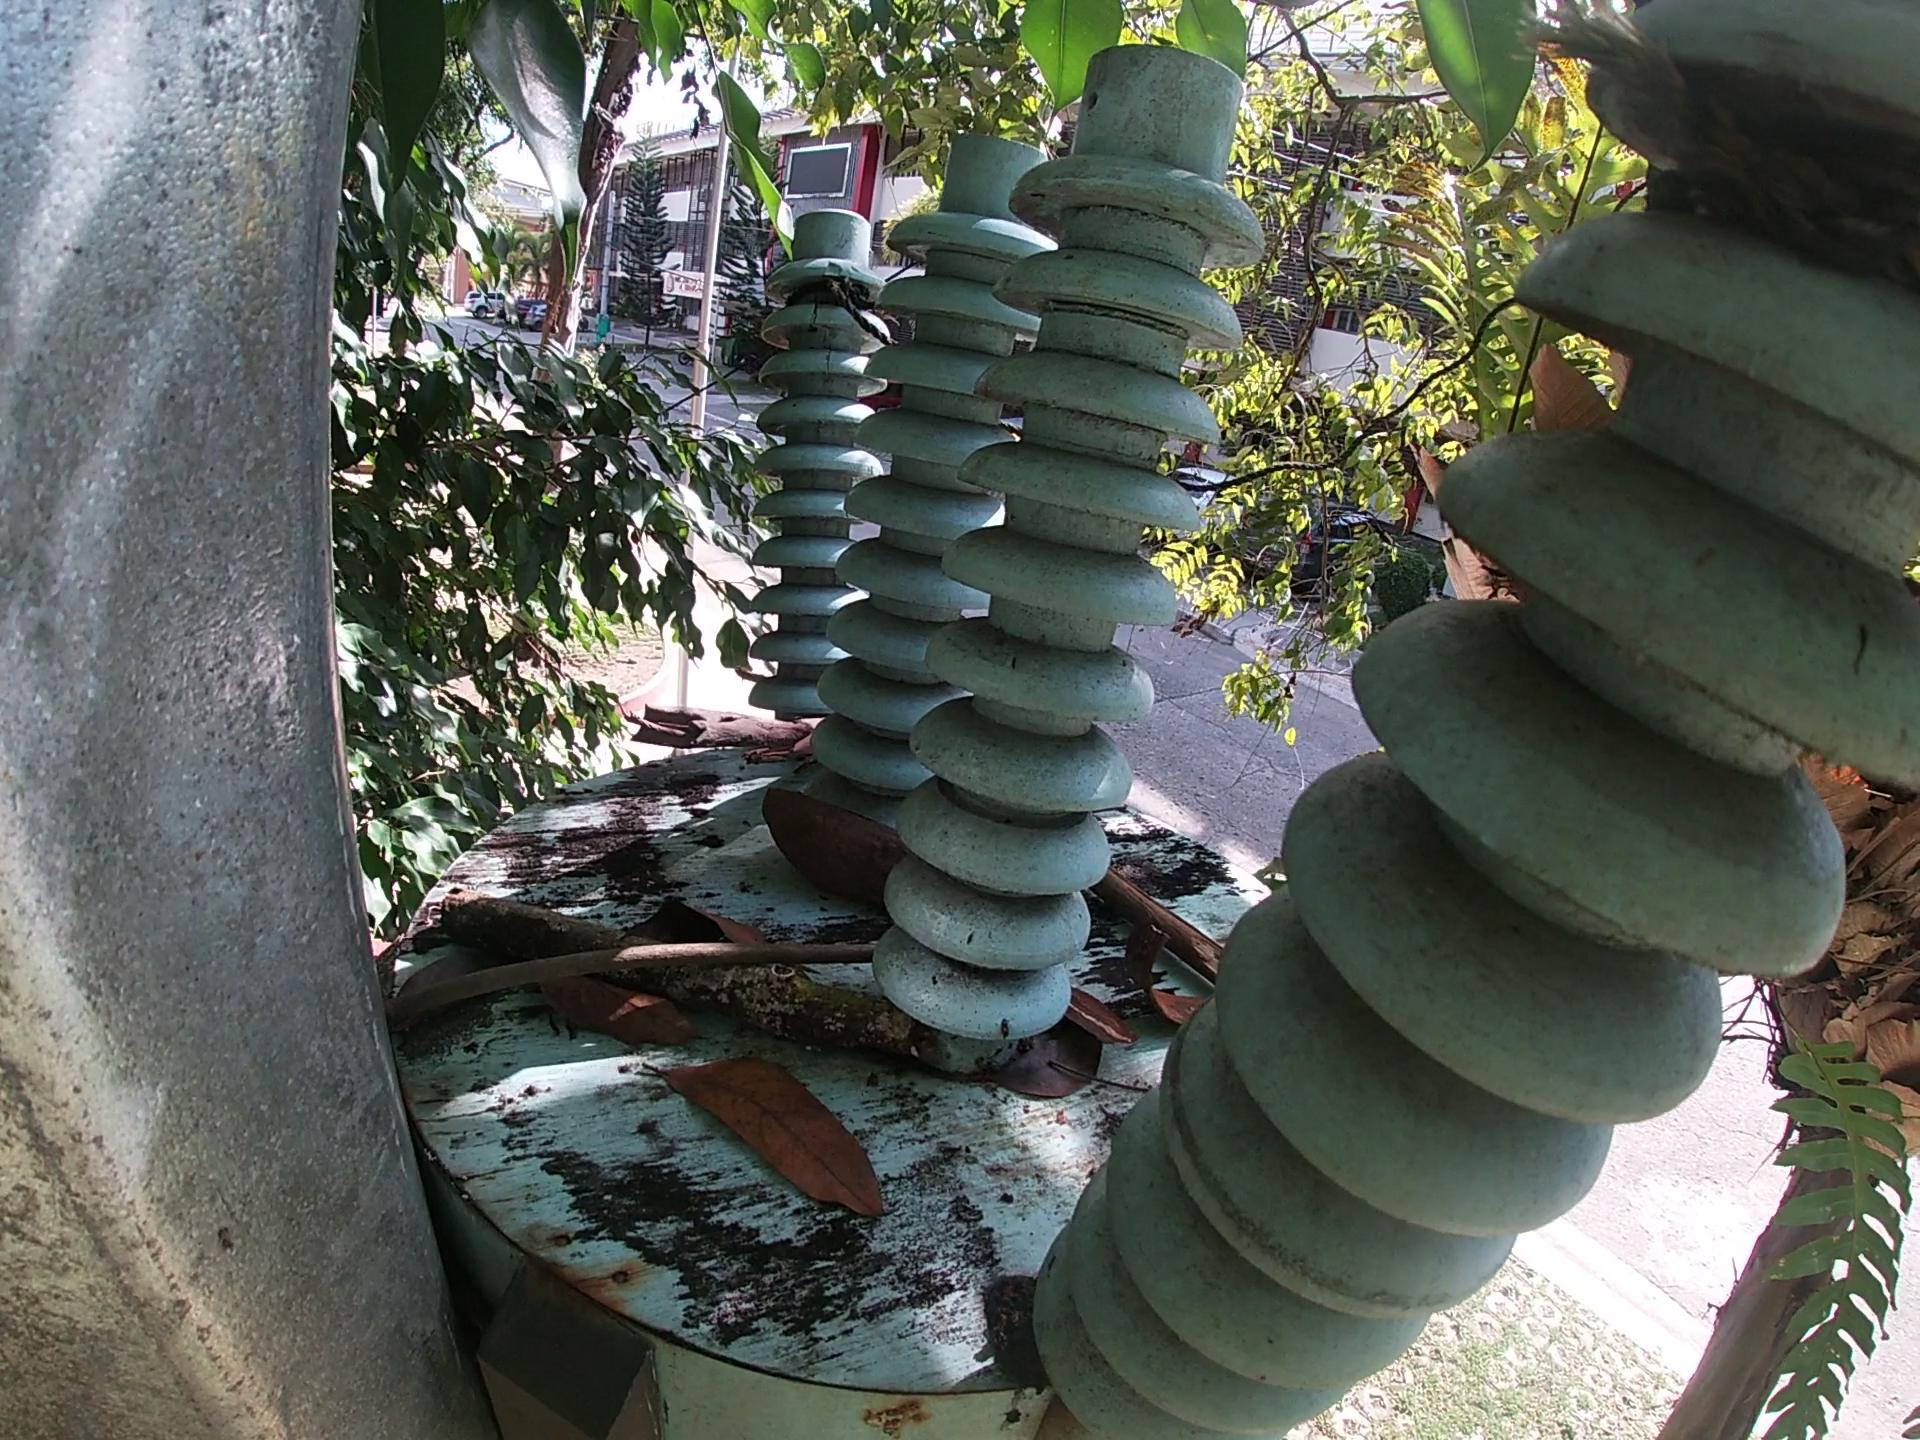leaf: (638, 1054, 907, 1228), (529, 973, 706, 1051), (962, 1023, 1114, 1104), (615, 894, 776, 948)
mahogany fruit: (760, 782, 901, 909), (1126, 908, 1208, 1029), (1061, 985, 1137, 1050)
tree branch: (440, 888, 919, 1062), (373, 939, 881, 1032), (1092, 867, 1226, 985), (621, 699, 821, 768)
